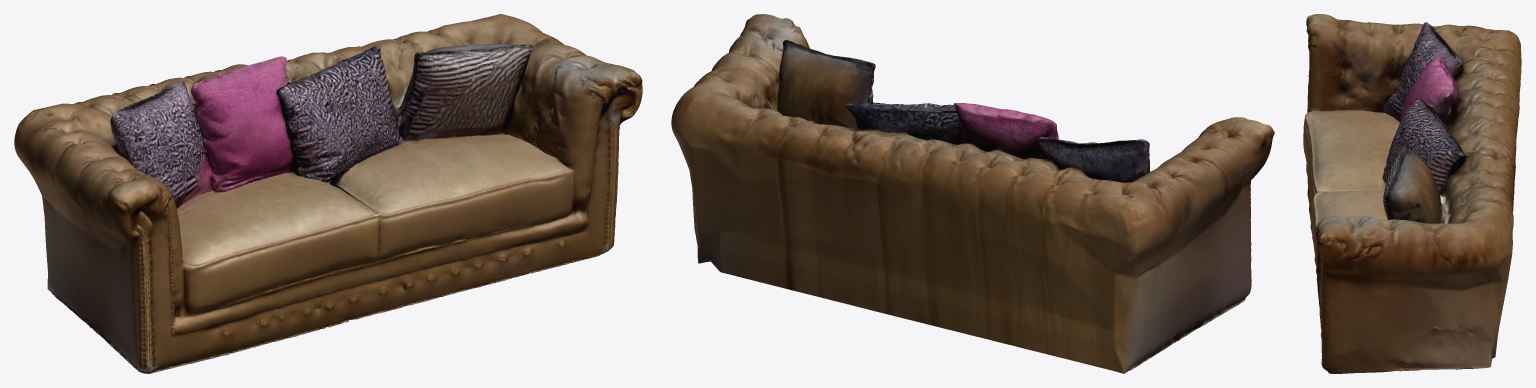
Rendered from sofa.glb.
The picture shows the model from 3 angles, left to right: view 1: azimuth 30°, elevation 25°; view 2: azimuth 150°, elevation 25°; view 3: azimuth 270°, elevation 25°; orthographic projection. The views are drawn at different scales.
Parts seen in each view (by area): view 1: world; view 2: world; view 3: world.
Boxes of the visible parts, bbox=[...] form: world: bbox=[14, 14, 642, 373]; world: bbox=[671, 14, 1274, 373]; world: bbox=[1303, 14, 1521, 373].
Bounding box in the file's own units: 2.5 × 0.9238 × 1.05.
Materials: 1 (1 with a texture image).
